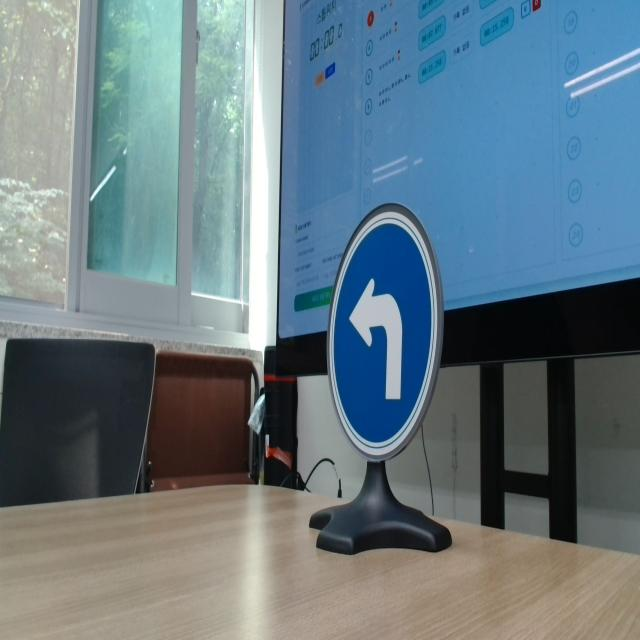left_direction: (317, 196, 443, 456)
